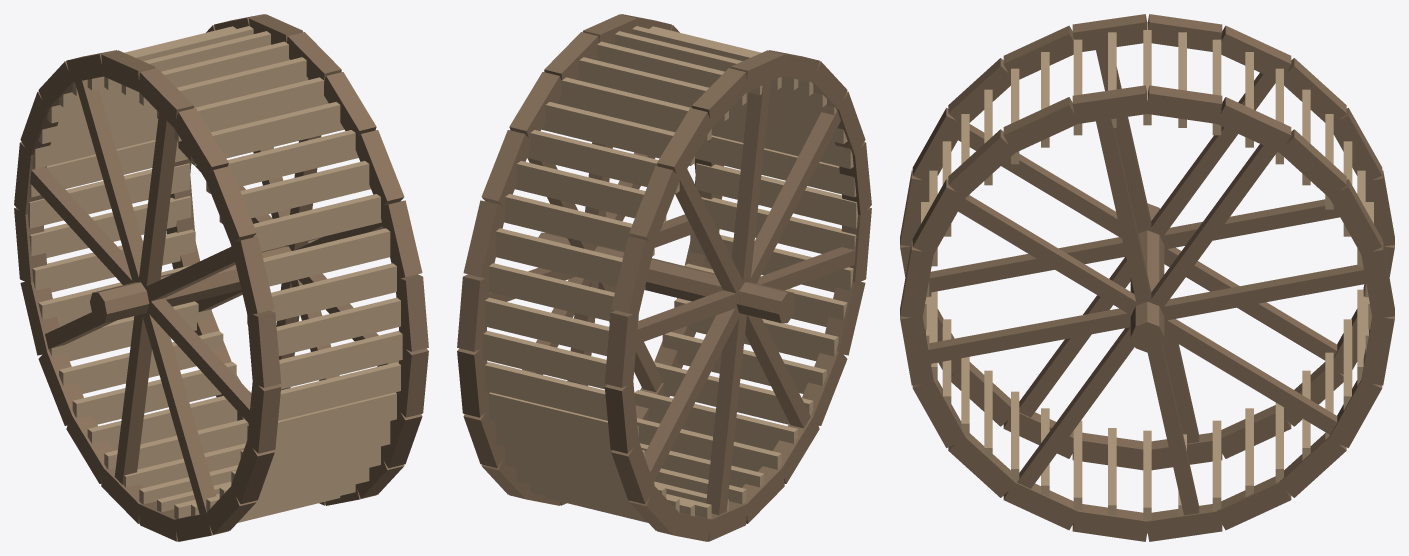
Rendered from crane_wheel.glb.
3 views of the same model, side by side, from view 1: azimuth 30°, elevation 25°; view 2: azimuth 150°, elevation 25°; view 3: azimuth 270°, elevation 25° (orthographic).
Visible parts, largest first — view 1: CraneWheel; view 2: CraneWheel; view 3: CraneWheel.
Boxes of the visible parts, box(x1,y1,x2,y2) form: CraneWheel: box(14, 14, 428, 541); CraneWheel: box(457, 14, 871, 541); CraneWheel: box(900, 14, 1394, 541).
Bounding box in the file's own units: 2 × 3.52 × 3.52.
